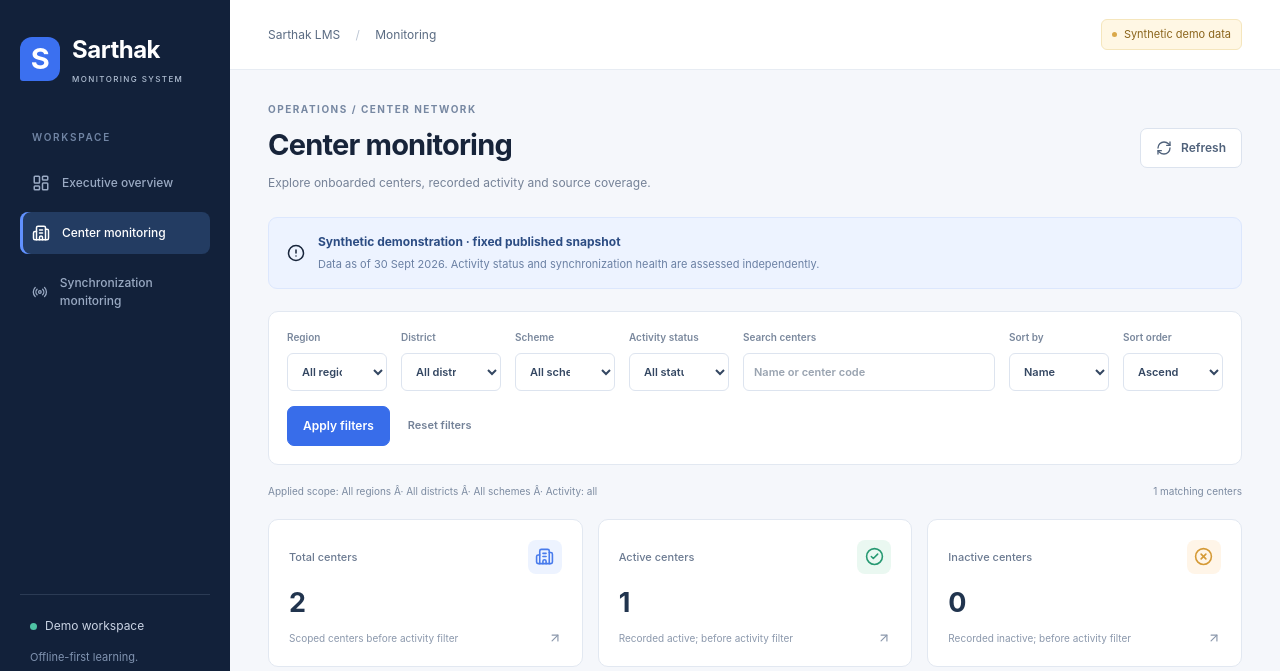
it: center monitoring navigation and request state › stages filters, applies their intersection, and resets dependent district on region change
Select "North Region" in the dropdown labelled "Region": (337, 372) [287,353,387,391]
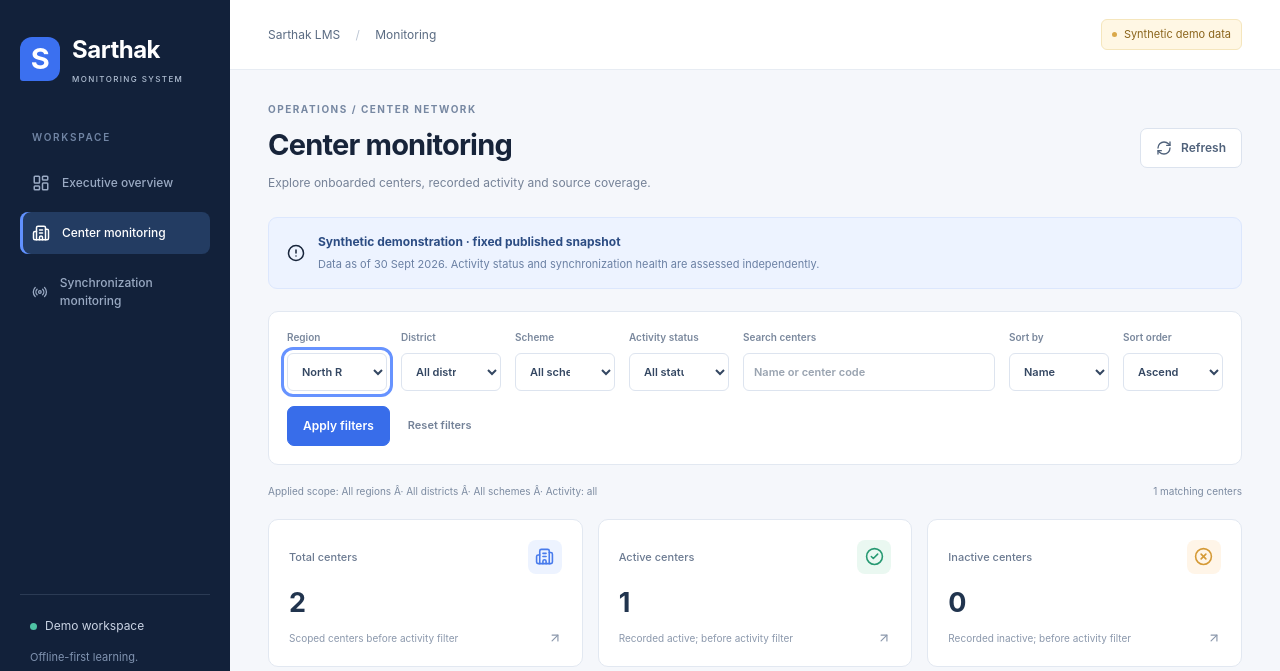
Select "District One" in the dropdown labelled "District": (451, 372) [401,353,501,391]
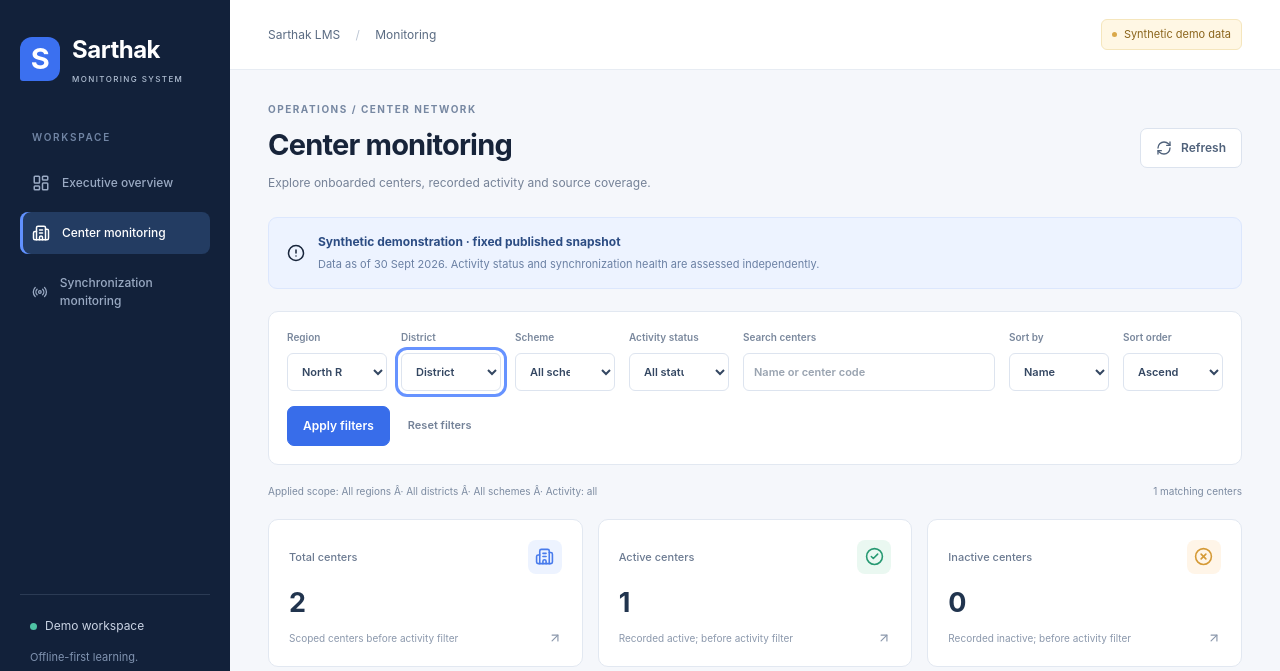
Select "Unknown" in the dropdown labelled "Activity status": (679, 372) [629,353,729,391]
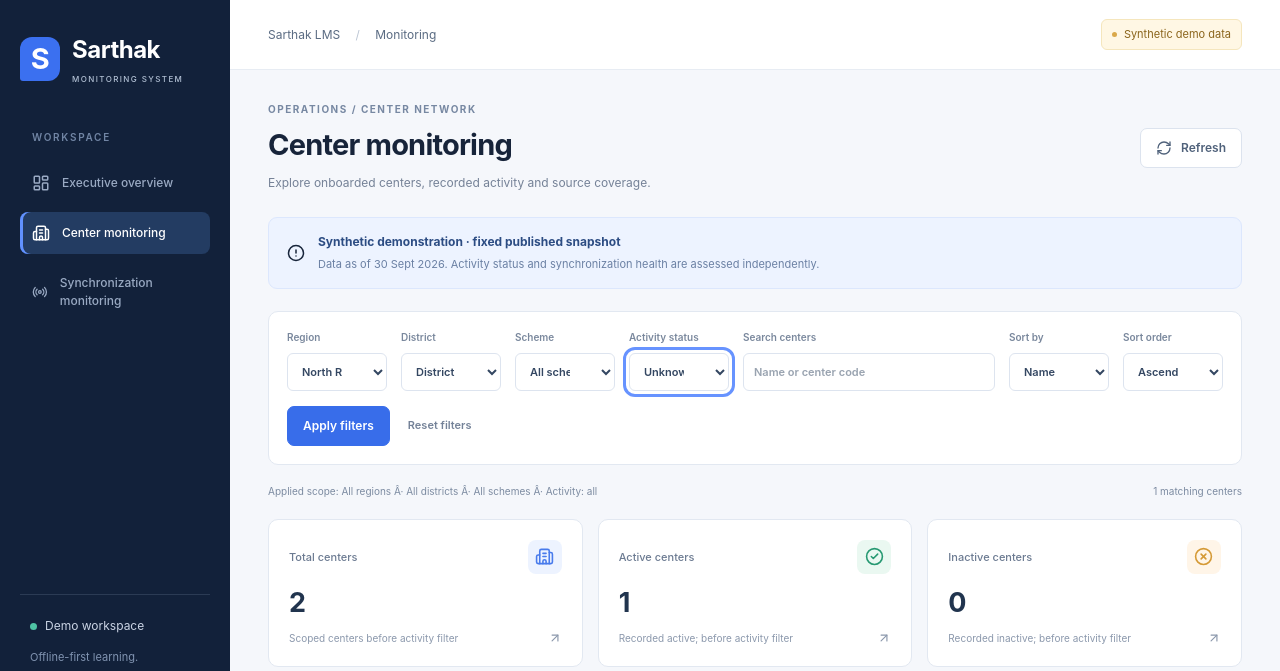
Select "Digital Skills" in the dropdown labelled "Scheme": (565, 372) [515,353,615,391]
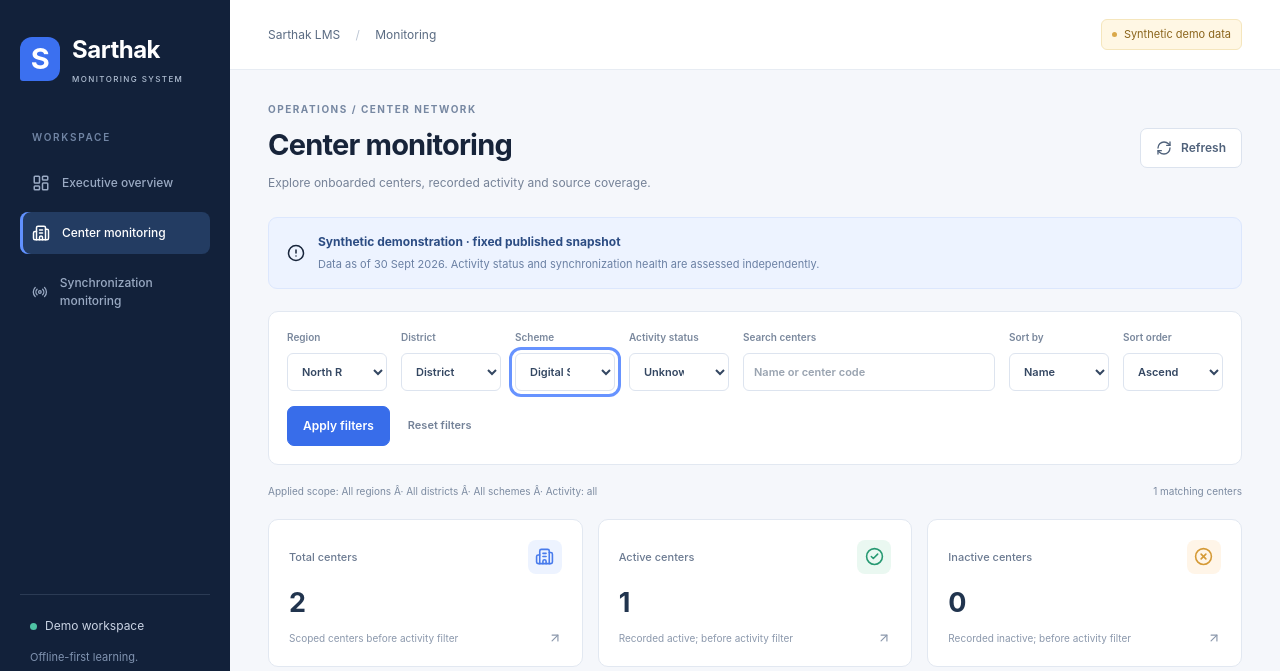
Click the button "Apply filters": (338, 426) [287,406,390,446]
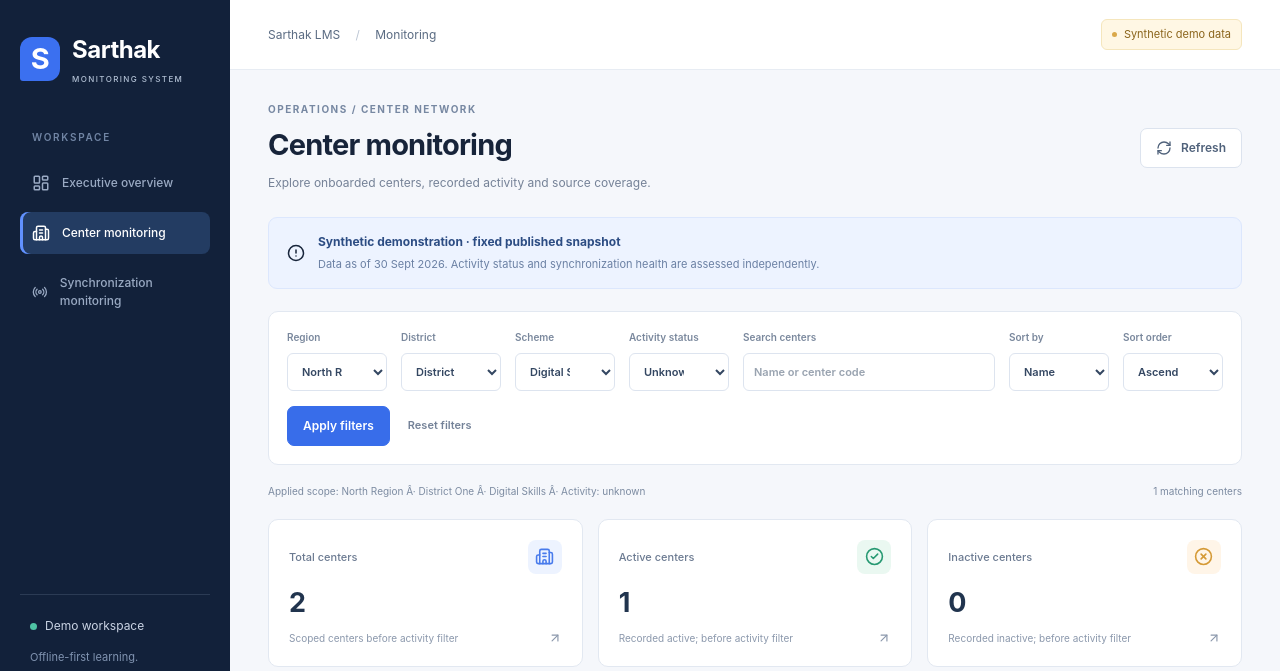
Select "South Region" in the dropdown labelled "Region": (337, 372) [287,353,387,391]
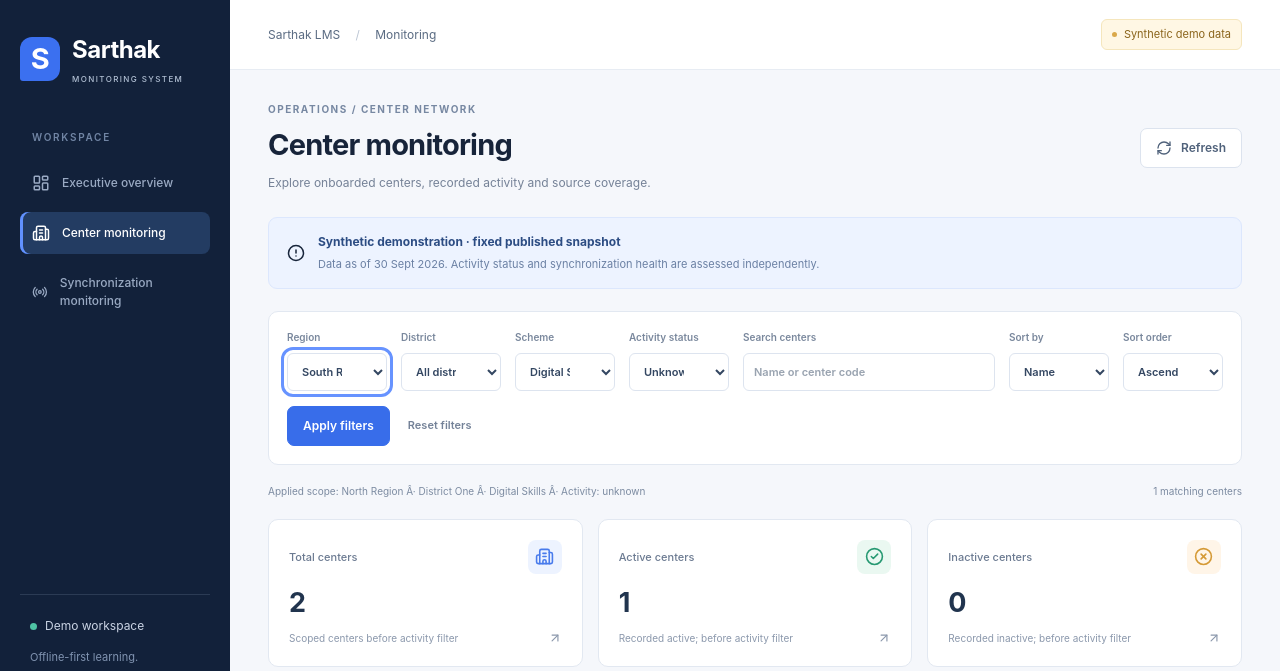
Result: the dropdown labelled "District" shows "All districts" at [401,353,501,391]
